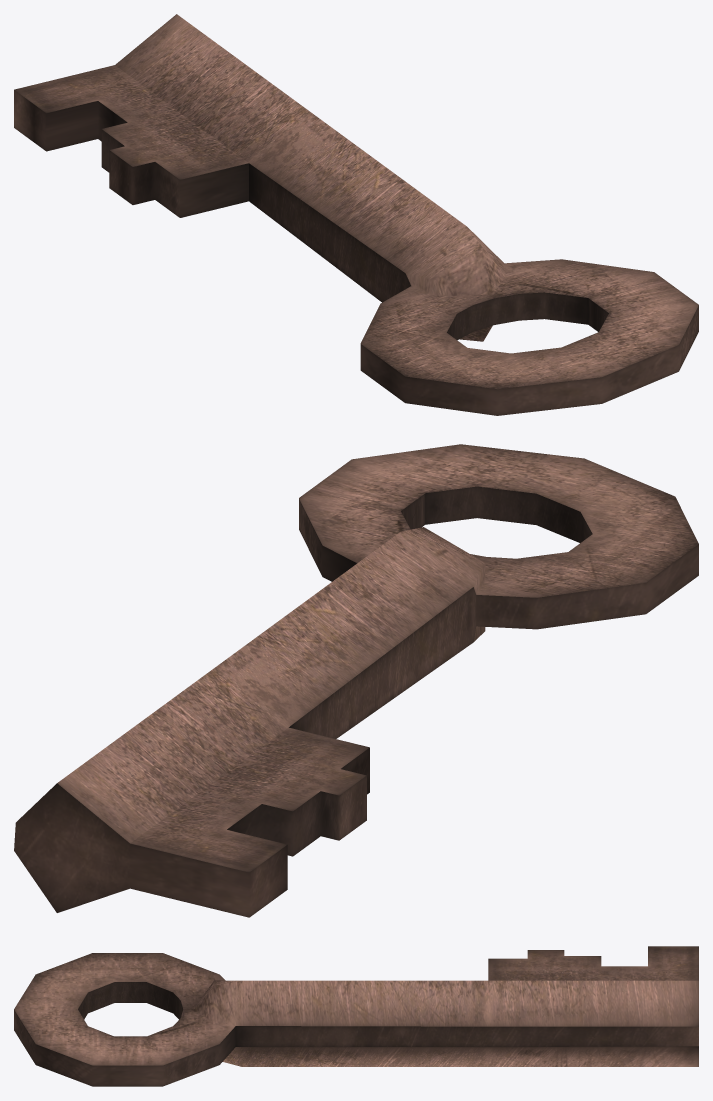
The model's file is Key.fbx.
The picture shows the model from 3 angles, top to bottom: view 1: azimuth 30°, elevation 25°; view 2: azimuth 150°, elevation 25°; view 3: azimuth 270°, elevation 25°; orthographic projection. The views are drawn at different scales.
Parts seen in each view (by area): view 1: Default_Layer; view 2: Default_Layer; view 3: Default_Layer.
Boxes of the visible parts, box(x1,y1,x2,y2) form: Default_Layer: box(14, 14, 698, 415); Default_Layer: box(14, 444, 698, 917); Default_Layer: box(14, 946, 698, 1086).
Size of the model in its own units: 9.38 by 3.3 by 23.67.
1 material, 1 textured.
